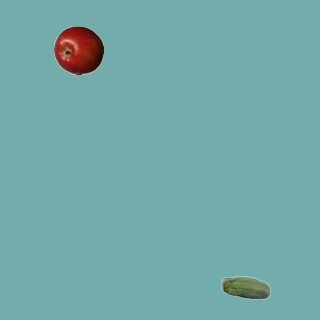Apple Braeburn: (53, 25, 103, 75)
Corn Husk: (220, 264, 270, 314)
